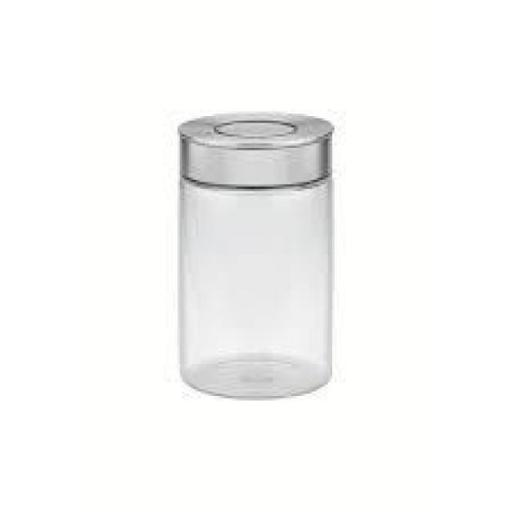glass: (174, 139, 340, 402)
